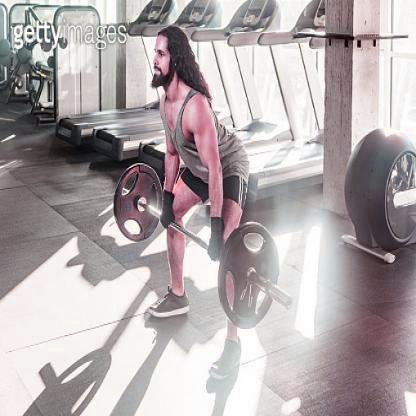Barbell: (281, 288, 300, 321)
